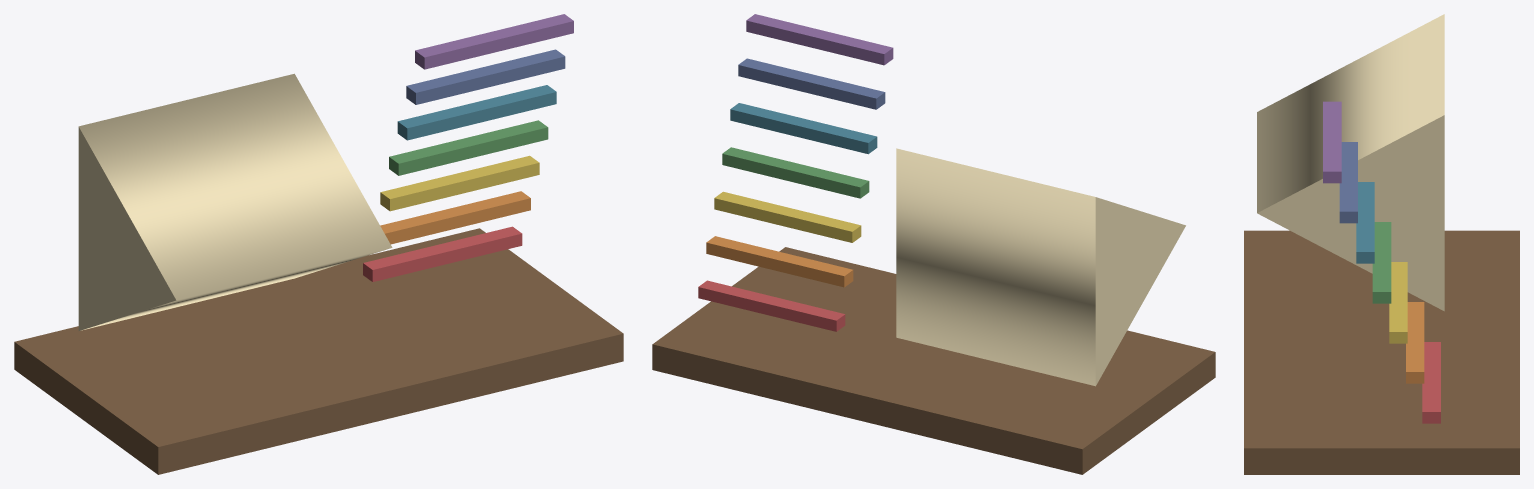
The picture shows the model from 3 angles, left to right: view 1: azimuth 30°, elevation 25°; view 2: azimuth 150°, elevation 25°; view 3: azimuth 270°, elevation 25°; orthographic projection. The views are drawn at different scales.
Size of the model in its own units: 1.4 by 0.8975 by 0.75.
